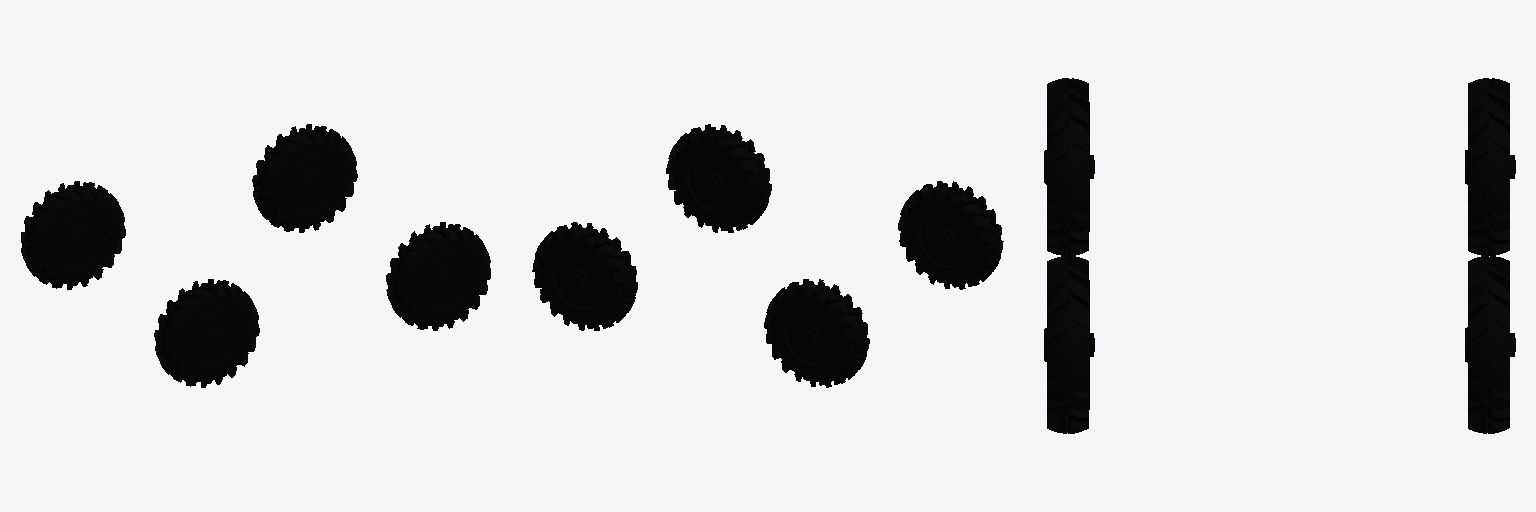
robot.urdf — amiga_robot:
<?xml version="1.0"?>
<robot name="amiga_robot">
  <material name="dark_black">
    <color rgba="0.05 0.05 0.05 1"/>
  </material>
  <material name="white">
    <color rgba="0.9 0.9 0.9 1"/>
  </material>

  <!-- Base Link -->
  <link name="base_link">
    <visual>
      <origin xyz="0 0 0.6" rpy="0 0 0"/>
      <geometry>
        <mesh filename="package://amiga_nav2/meshes/amiga_body.stl" scale="0.001 0.001 0.001" />
      </geometry>
      <material name="white"/>
    </visual>
    <inertial>
    	<mass value="150"/>
    	<inertia ixx=".0122666" ixy="0.0" ixz="0.0" iyz="0.0" iyy="0.0" izz="0.02"/>
    </inertial>
  </link>

   <!-- Wheel Links -->
  <link name="front_left_wheel">
    <visual>
      <geometry>
        <mesh filename="package://amiga_nav2/meshes/amiga_wheel.stl" scale="0.001 0.001 0.001" />
      </geometry>
      <material name="dark_black"/>

    </visual>
    
    <inertial>
    	<mass value="15"/>
    	<inertia ixx=".002788" ixy="0.0" ixz="0.0" iyz="0.0" iyy="0.002708" izz="0.005"/>
    </inertial>
  </link>
  
  <link name="front_right_wheel">
    <visual>
      <geometry>
        <mesh filename="package://amiga_nav2/meshes/amiga_wheel.stl" scale="0.001 0.001 0.001" />
      </geometry>
      <material name="dark_black"/>
    </visual>
    <inertial>
    	<mass value="15"/>
    	<inertia ixx=".002788" ixy="0.0" ixz="0.0" iyz="0.0" iyy="0.002708" izz="0.005"/>
    </inertial>
  </link>

  <link name="rear_left_wheel">
    <visual>
      <geometry>
        <mesh filename="package://amiga_nav2/meshes/amiga_wheel.stl" scale="0.001 0.001 0.001" />
      </geometry>
      <material name="dark_black"/>
    </visual>
    <inertial>
    	<mass value="15"/>
    	<inertia ixx=".002788" ixy="0.0" ixz="0.0" iyz="0.0" iyy="0.002708" izz="0.005"/>
    </inertial>
  </link>

  <link name="rear_right_wheel">
    <visual>
      <geometry>
        <mesh filename="package://amiga_nav2/meshes/amiga_wheel.stl" scale="0.001 0.001 0.001" />
      </geometry>
      <material name="dark_black"/>
    </visual>
    <inertial>
    	<mass value="15"/>
    	<inertia ixx=".002788" ixy="0.0" ixz="0.0" iyz="0.0" iyy="0.002708" izz="0.005"/>
    </inertial>
  </link>

  <!-- Joints -->
  <!-- Adjust the origin xyz values according to the actual dimensions of your robot -->
  <joint name="front_left_wheel_joint" type="fixed">
    <origin xyz="0.51 0.5 0.2" rpy="0 0 0"/>
    <parent link="base_link"/>
    <child link="front_left_wheel"/>
    <axis xyz="0 1 0"/>
  </joint>

  <joint name="front_right_wheel_joint" type="fixed">
    <origin xyz="0.51 -0.52 0.2" rpy="0 0 0"/>
    <parent link="base_link"/>
    <child link="front_right_wheel"/>
    <axis xyz="0 1 0"/>
  </joint>

  <joint name="rear_left_wheel_joint" type="fixed">
    <origin xyz="-0.51 0.5 0.2" rpy="0 0 0"/>
    <parent link="base_link"/>
    <child link="rear_left_wheel"/>
    <axis xyz="0 1 0"/>
  </joint>

  <joint name="rear_right_wheel_joint" type="fixed">
    <origin xyz="-0.51 -0.52 0.2" rpy="0 0 0"/>
    <parent link="base_link"/>
    <child link="rear_right_wheel"/>
    <axis xyz="0 1 0"/>
  </joint>



  <joint name="imu_joint" type="fixed">
    <parent link="base_link"/>
    <child link="imu_link"/>
    <origin xyz="0.0 0 0.068" rpy="0 0 0"/>
  </joint>

  <link name="imu_link"/>

  <!-- Add the gps link so we get a static transform for the GPS -->
  <joint name="gps_joint" type="fixed">
    <parent link="base_link"/>
    <child link="gps_link"/>
    <origin xyz="0 0 0" rpy="0 0 0"/>
  </joint>

  <link name="gps_link"/>


</robot>

--- Facts derived from the render (not from the file) ---
The picture shows the robot from 3 angles, left to right: view 1: azimuth 30°, elevation 25°; view 2: azimuth 150°, elevation 25°; view 3: azimuth 270°, elevation 25°; orthographic projection.
Model amiga_robot with 7 links and 6 joints (6 fixed), rooted at base_link, posed every joint at zero.
Links seen in each view (by area): view 1: rear_right_wheel, rear_left_wheel, front_right_wheel, front_left_wheel; view 2: front_left_wheel, front_right_wheel, rear_right_wheel, rear_left_wheel; view 3: front_right_wheel, rear_right_wheel, front_left_wheel, rear_left_wheel.
Boxes of the visible links, x1=… form: rear_right_wheel: x1=154, y1=279, x2=259, y2=387; rear_left_wheel: x1=21, y1=181, x2=125, y2=289; front_right_wheel: x1=386, y1=222, x2=490, y2=330; front_left_wheel: x1=252, y1=124, x2=357, y2=232; front_left_wheel: x1=532, y1=222, x2=637, y2=330; front_right_wheel: x1=666, y1=124, x2=771, y2=232; rear_right_wheel: x1=898, y1=181, x2=1003, y2=289; rear_left_wheel: x1=764, y1=279, x2=869, y2=387; front_right_wheel: x1=1044, y1=256, x2=1094, y2=433; rear_right_wheel: x1=1044, y1=78, x2=1094, y2=255; front_left_wheel: x1=1465, y1=256, x2=1515, y2=433; rear_left_wheel: x1=1465, y1=78, x2=1515, y2=255.
Size in the robot's own frame: 1.45 by 1.14 by 0.4318 metres.
4 mesh visuals loaded from 2 distinct referenced files (1 binary STL); not drawn: 1 (reference not matched to a file when rendering).
